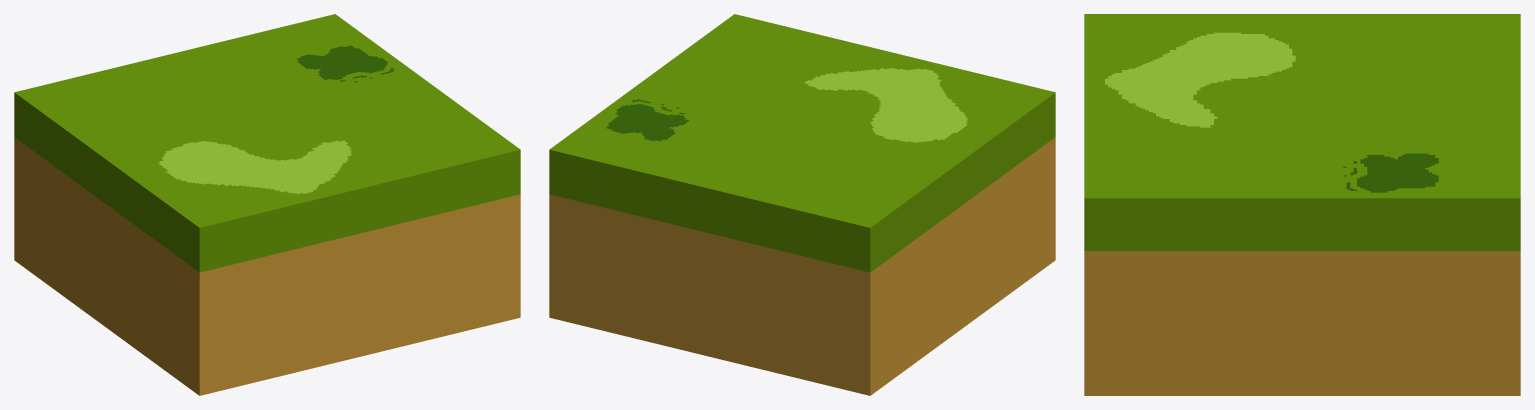
3 renders of one model, left to right at view 1: azimuth 30°, elevation 25°; view 2: azimuth 150°, elevation 25°; view 3: azimuth 270°, elevation 25°, orthographic. The views are drawn at different scales.
Visible parts, largest first — view 1: 16E; view 2: 16E; view 3: 16E.
Part boxes in pixels (x1,y1,x2,y2): 16E: [14, 14, 520, 395]; 16E: [549, 14, 1055, 395]; 16E: [1084, 14, 1520, 395].
Size of the model in its own units: 12.8 by 6.4 by 12.8.
1 material, 1 textured.
